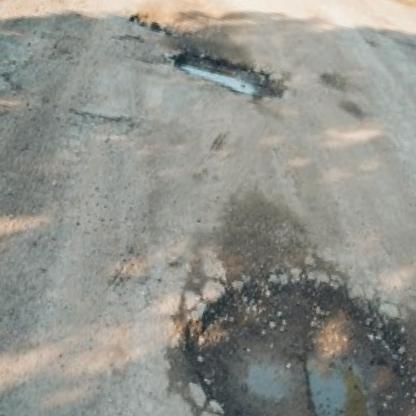pothole: (153, 240, 416, 416), (167, 43, 289, 105)
